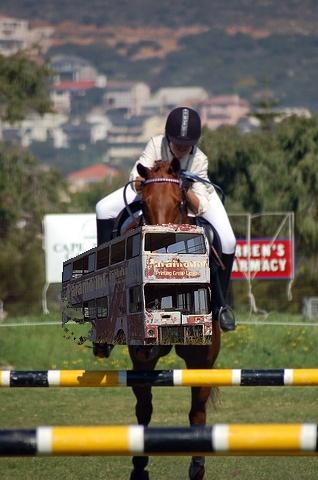tampered: (62, 224, 212, 345)
